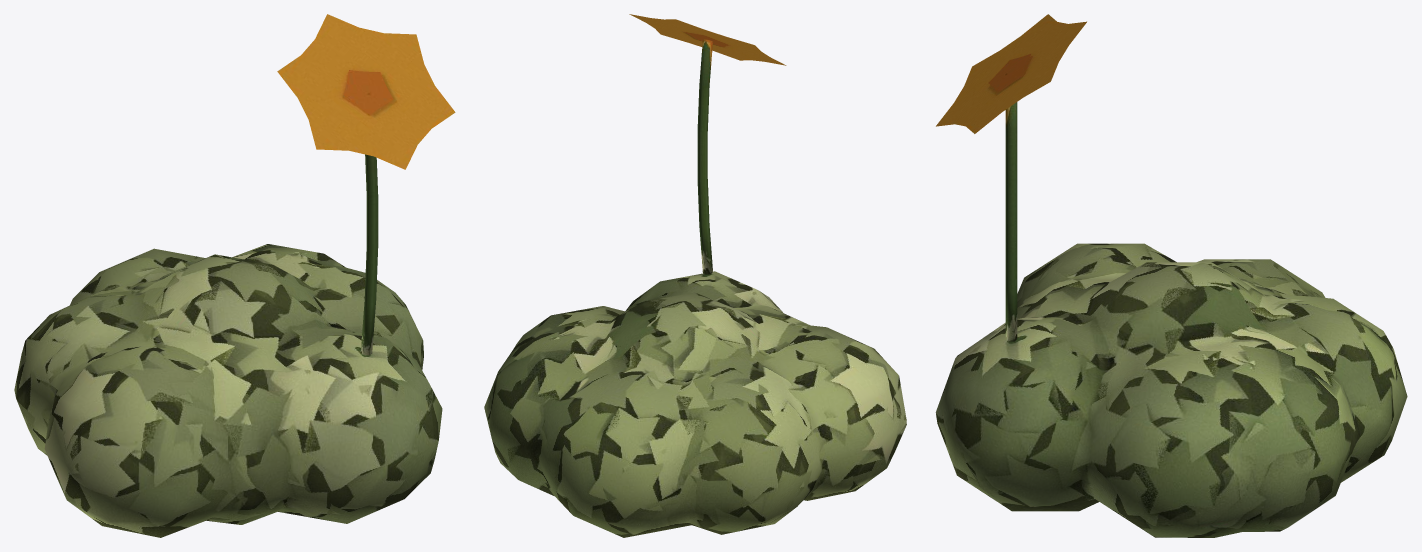
Rendered from flower_orange.glb.
The picture shows the model from 3 angles, left to right: view 1: azimuth 30°, elevation 25°; view 2: azimuth 150°, elevation 25°; view 3: azimuth 270°, elevation 25°; orthographic projection. The views are drawn at different scales.
Visible parts, largest first — view 1: flower_orange_lod0; view 2: flower_orange_lod0; view 3: flower_orange_lod0.
Part boxes in pixels (x1,y1,x2,y2): flower_orange_lod0: (14,14,455,537); flower_orange_lod0: (484,14,906,537); flower_orange_lod0: (935,14,1407,537).
Size of the model in its own units: 0.6189 by 0.731 by 0.6454.
Materials: 1 (1 with a texture image).
